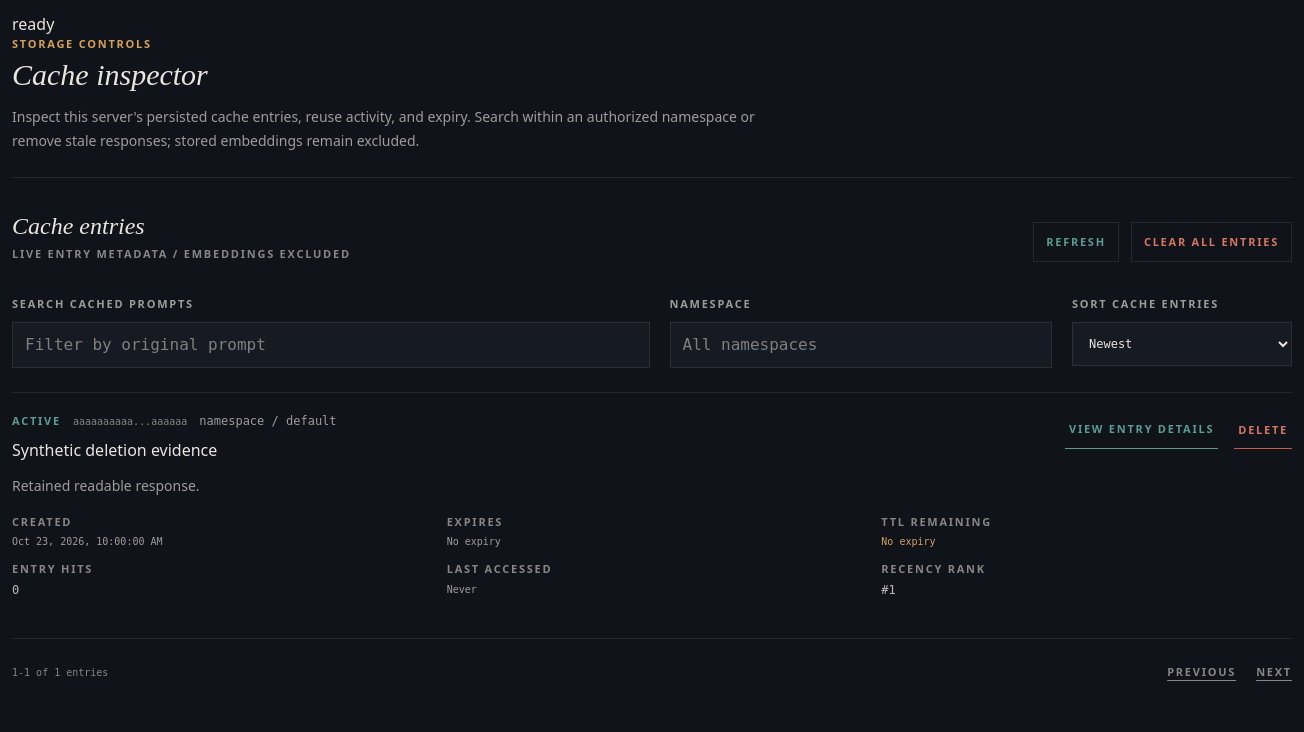
Test case: confirmed and unconfirmed cache mutation outcomes › retains clear confirmation and readable data on explicit rejection
Expected: the heading "Synthetic deletion evidence" is shown, [12,438,217,460]
Expected: the text named "Readings state" reads "ready", [12,13,54,35]
Click the button "Clear all entries". click: (1211, 242)
box: [1131,222,1292,262]
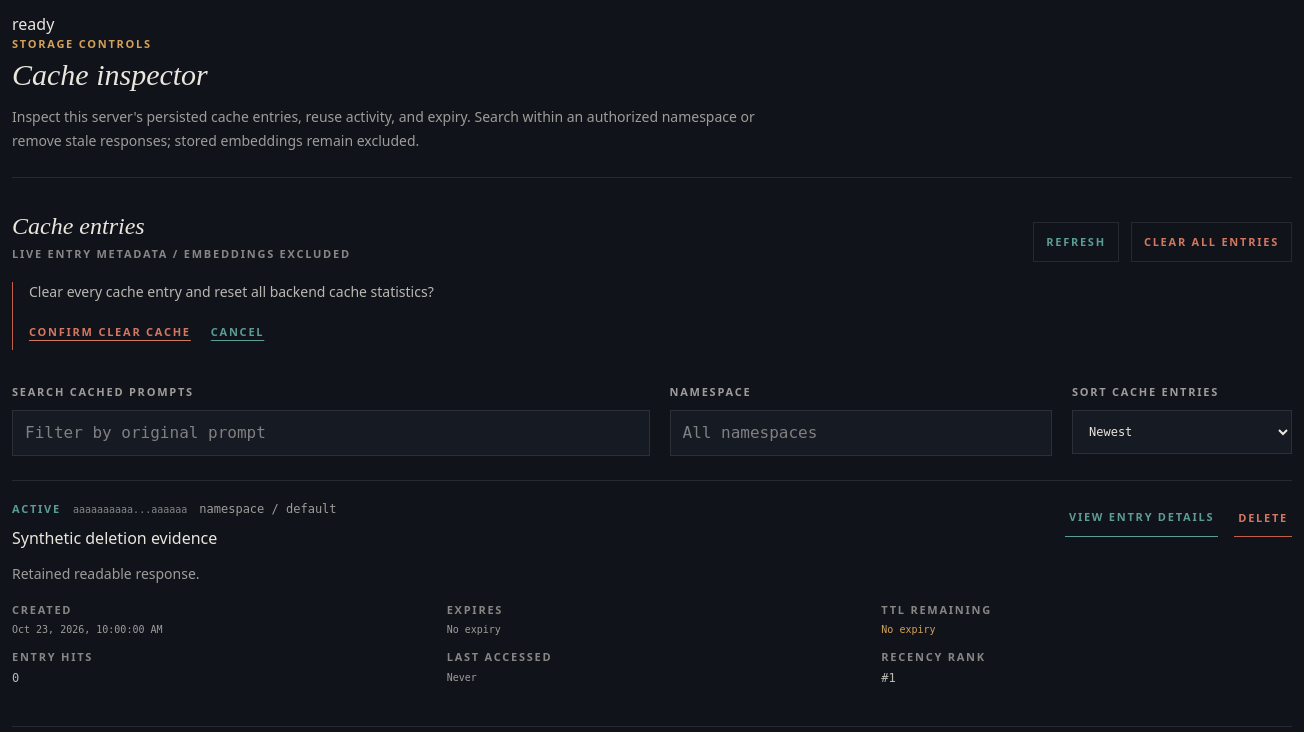
Click the button "Confirm clear cache". click: (110, 332)
box: [29,314,191,350]
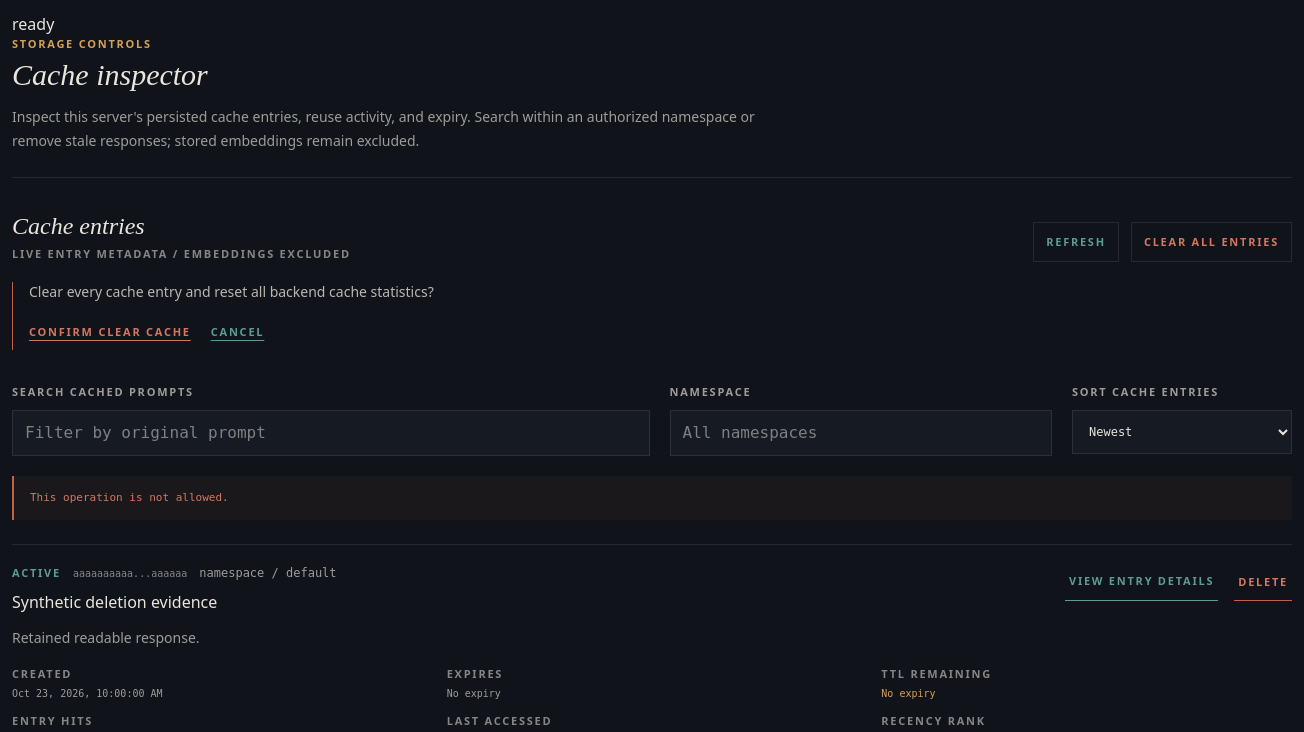
Expected: the heading "Synthetic deletion evidence" is shown, [12,590,217,612]
Result: the button "Confirm clear cache" is shown at [29,314,191,350]
Result: the message "This operation is not allowed." is shown at [12,476,1292,520]
